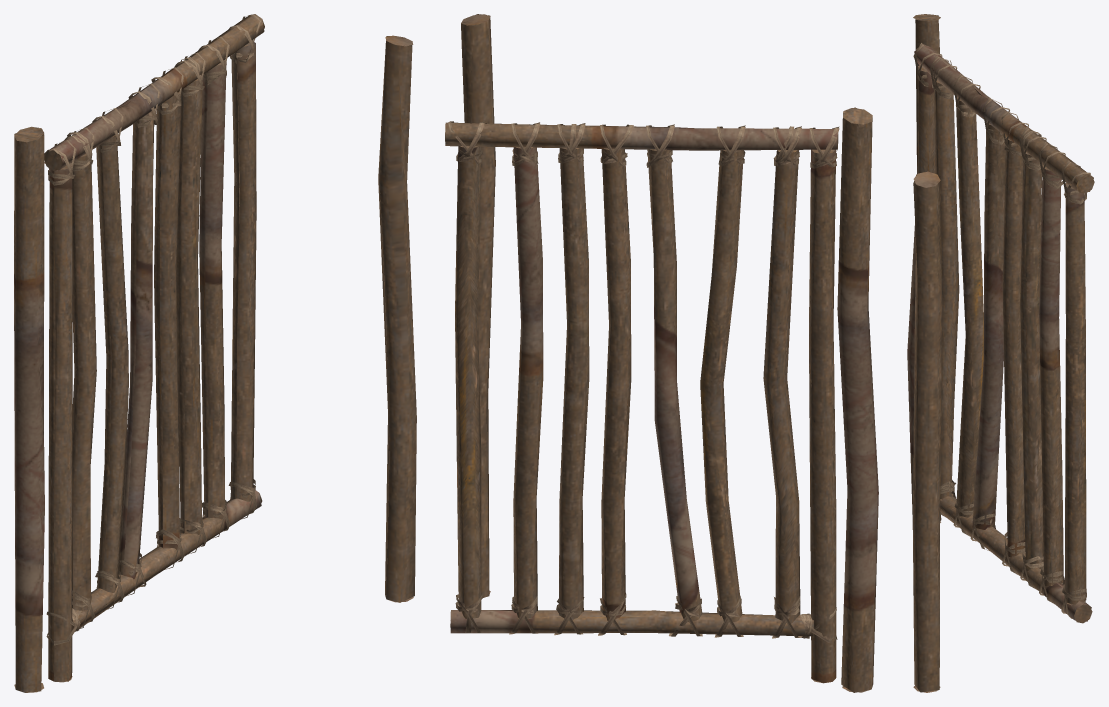
File: fence_gate.glb
The picture shows the model from 3 angles, left to right: view 1: azimuth 30°, elevation 25°; view 2: azimuth 150°, elevation 25°; view 3: azimuth 270°, elevation 25°; orthographic projection. The views are drawn at different scales.
Visible parts, largest first — view 1: fence gate_Tool_0; view 2: fence gate_Tool_0; view 3: fence gate_Tool_0.
Part boxes in pixels (x1=…): fence gate_Tool_0: x1=14, y1=14, x2=416, y2=692; fence gate_Tool_0: x1=445, y1=14, x2=878, y2=692; fence gate_Tool_0: x1=907, y1=14, x2=1094, y2=692.
Size of the model in its own units: 0.8721 by 1.16 by 0.3858.
Materials: 2 (2 with a texture image).
